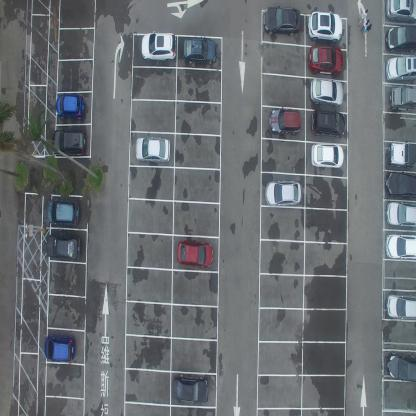car: (263, 5, 301, 38), (310, 106, 346, 140), (141, 31, 177, 64), (52, 126, 88, 158), (308, 44, 343, 76), (172, 373, 208, 404), (177, 236, 214, 266), (265, 179, 302, 208), (308, 11, 342, 42), (310, 76, 344, 107), (385, 350, 416, 384), (136, 135, 172, 164), (45, 197, 79, 226), (182, 37, 216, 65), (45, 233, 80, 260), (385, 292, 416, 322), (384, 201, 416, 230), (310, 142, 344, 169), (385, 169, 416, 198), (384, 232, 416, 260), (387, 139, 416, 168), (55, 93, 85, 121), (386, 54, 416, 82), (43, 335, 75, 361), (268, 109, 301, 134), (386, 24, 415, 52), (389, 85, 416, 113), (384, 0, 416, 21)
